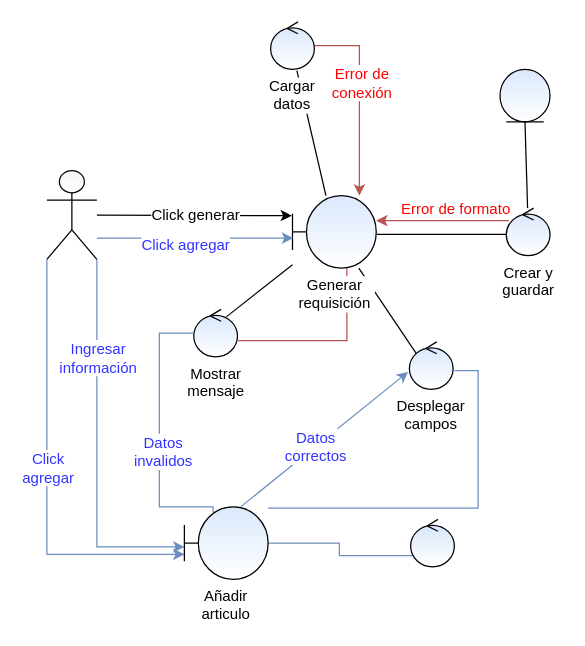
This 585x646 diagram has some shape labels left out. The box of each missing label's shape, as (x1, y1, x2, y2) in pixels:
Encargado de almacén: (46, 169, 97, 259)
Requisición: (499, 68, 550, 122)
Validar datos: (409, 518, 454, 567)
